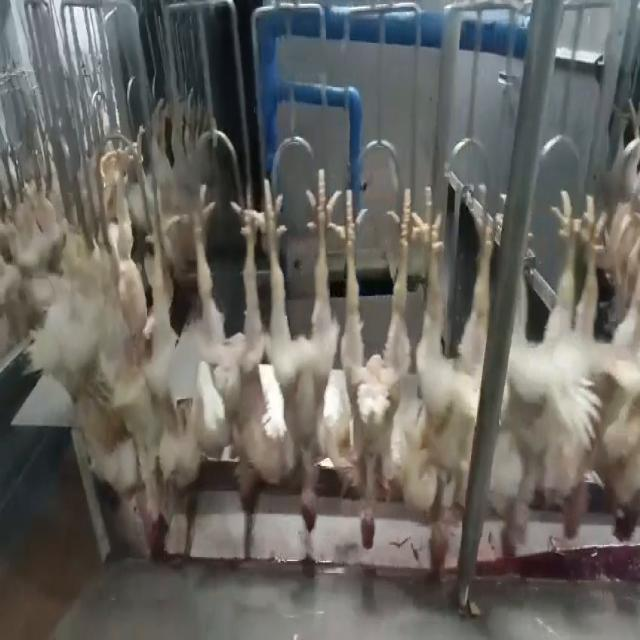chicken: (396, 181, 503, 574), (330, 183, 433, 550), (257, 157, 350, 540), (153, 180, 258, 490), (557, 179, 633, 538), (124, 189, 172, 562)
